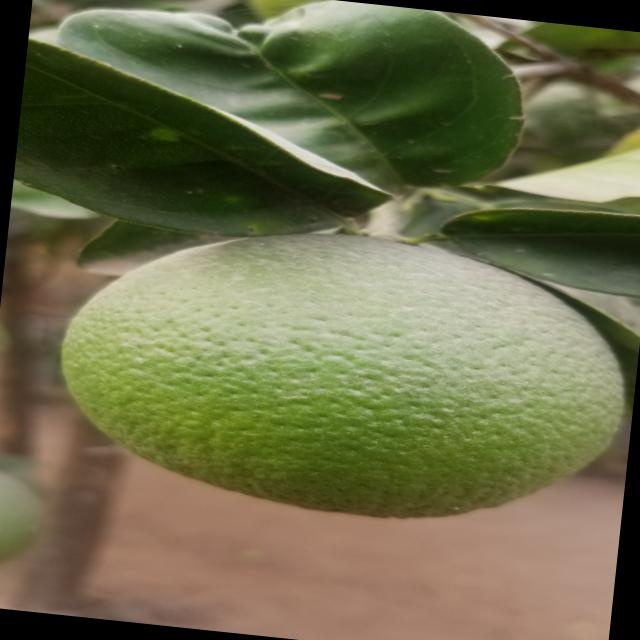agrume: (54, 213, 634, 541)
